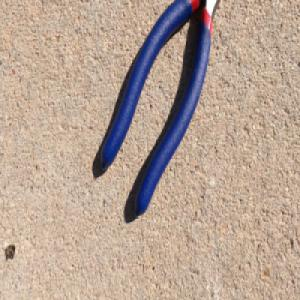Pliers: (98, 0, 222, 221)
